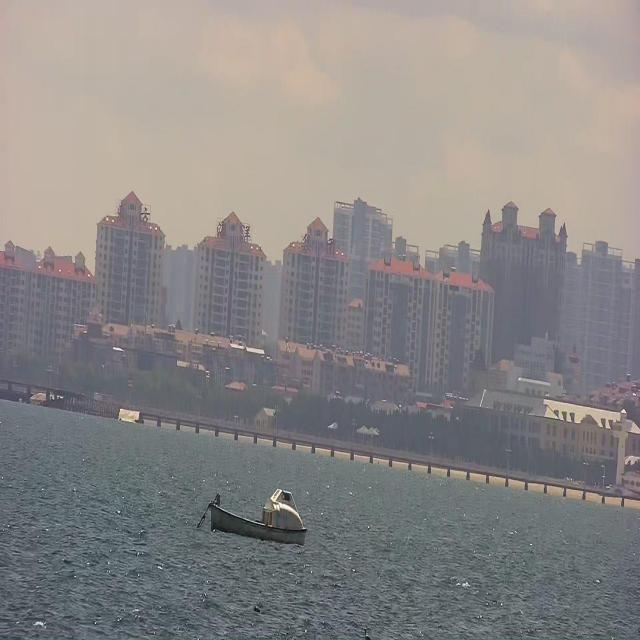ship2: (208, 491, 307, 547)
